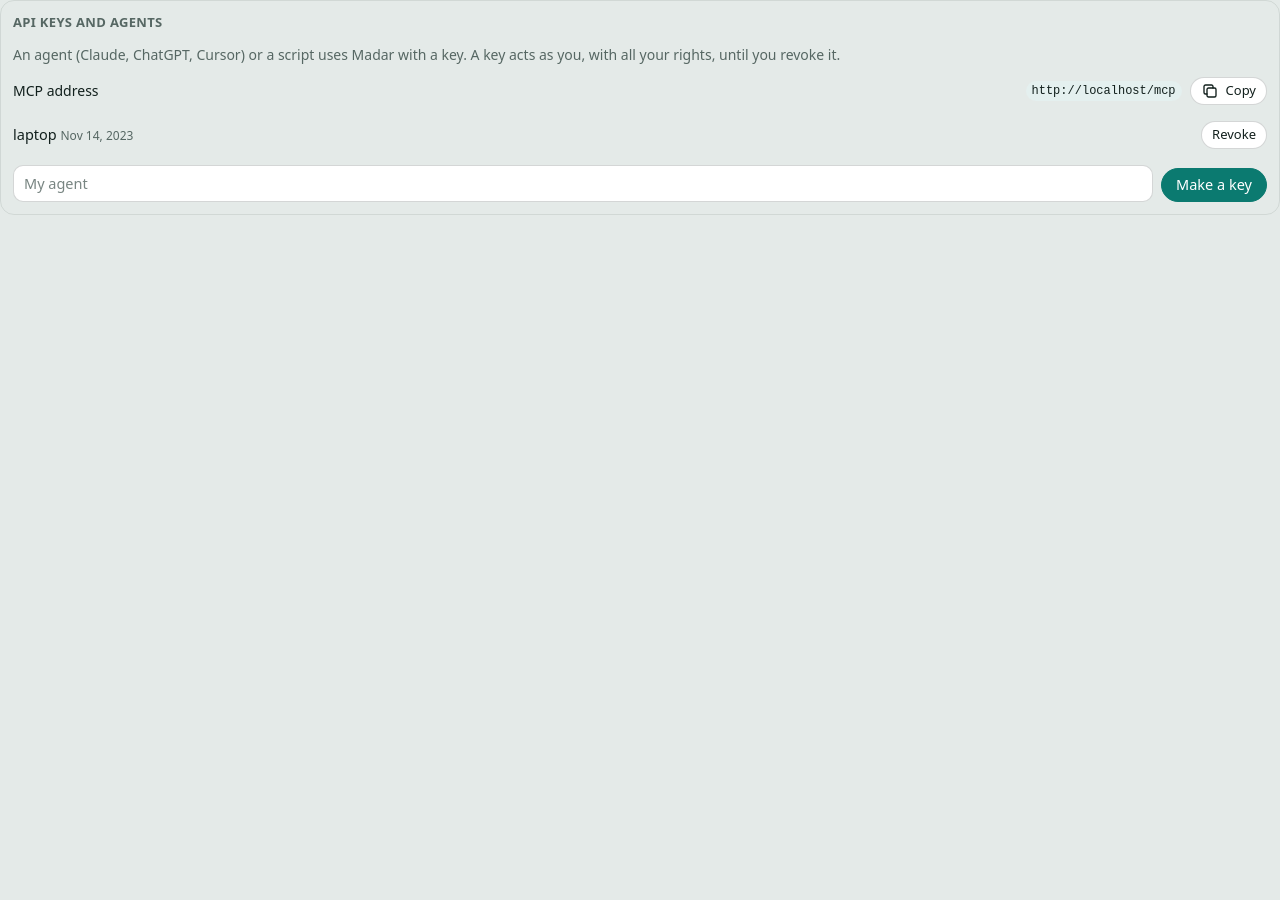
Test case: API keys and agents (ADR 0101) › makes_a_key_shows_it_once_with_the_mcp_address_and_revokes_one
Expected: the text "laptop" is shown, x1=13 y1=124 x2=57 y2=144
In the field named "Key name": [583, 183] box x1=13 y1=164 x2=1153 y2=202, type "my agent"
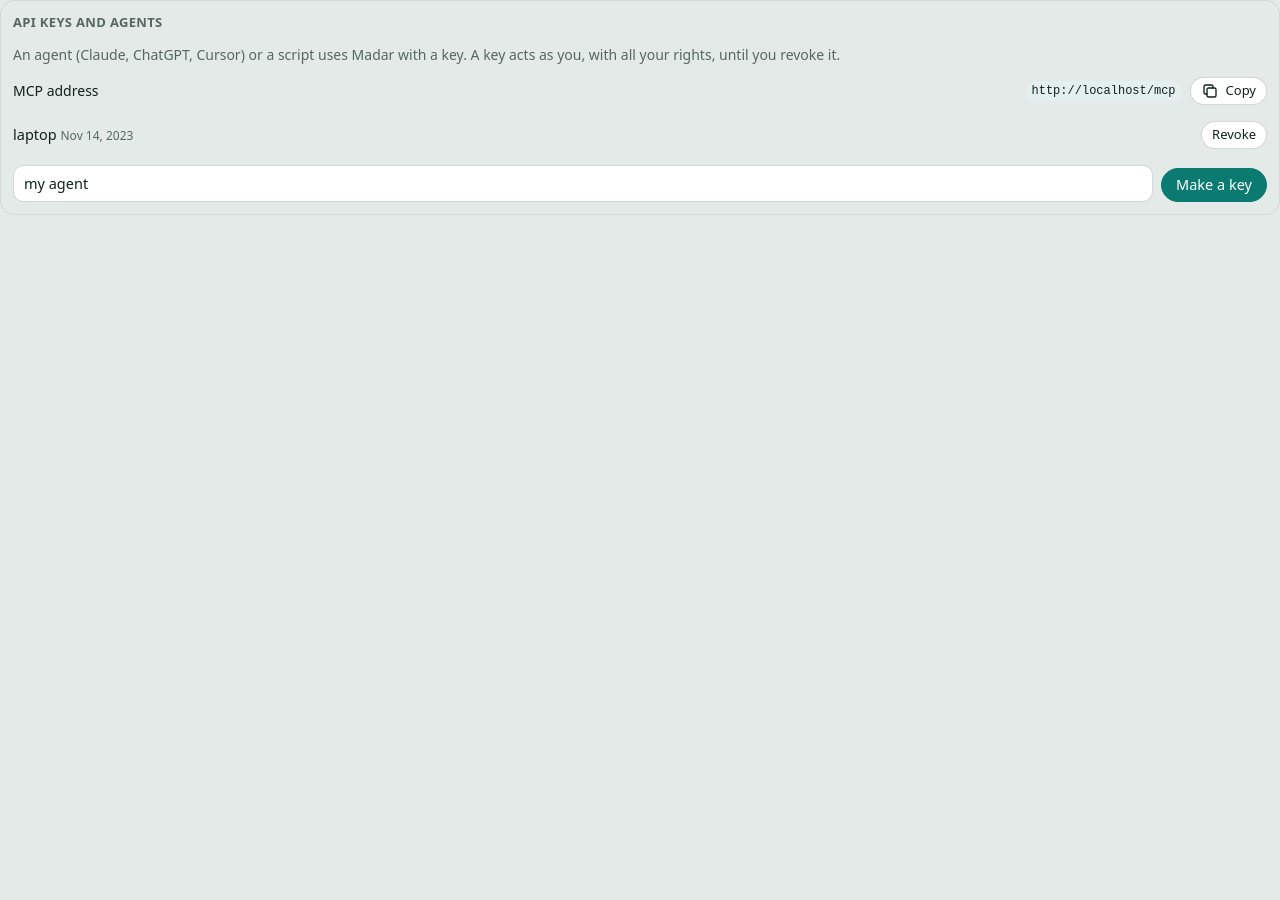
Click the button "Make a key": [1214, 185] box x1=1161 y1=168 x2=1267 y2=202
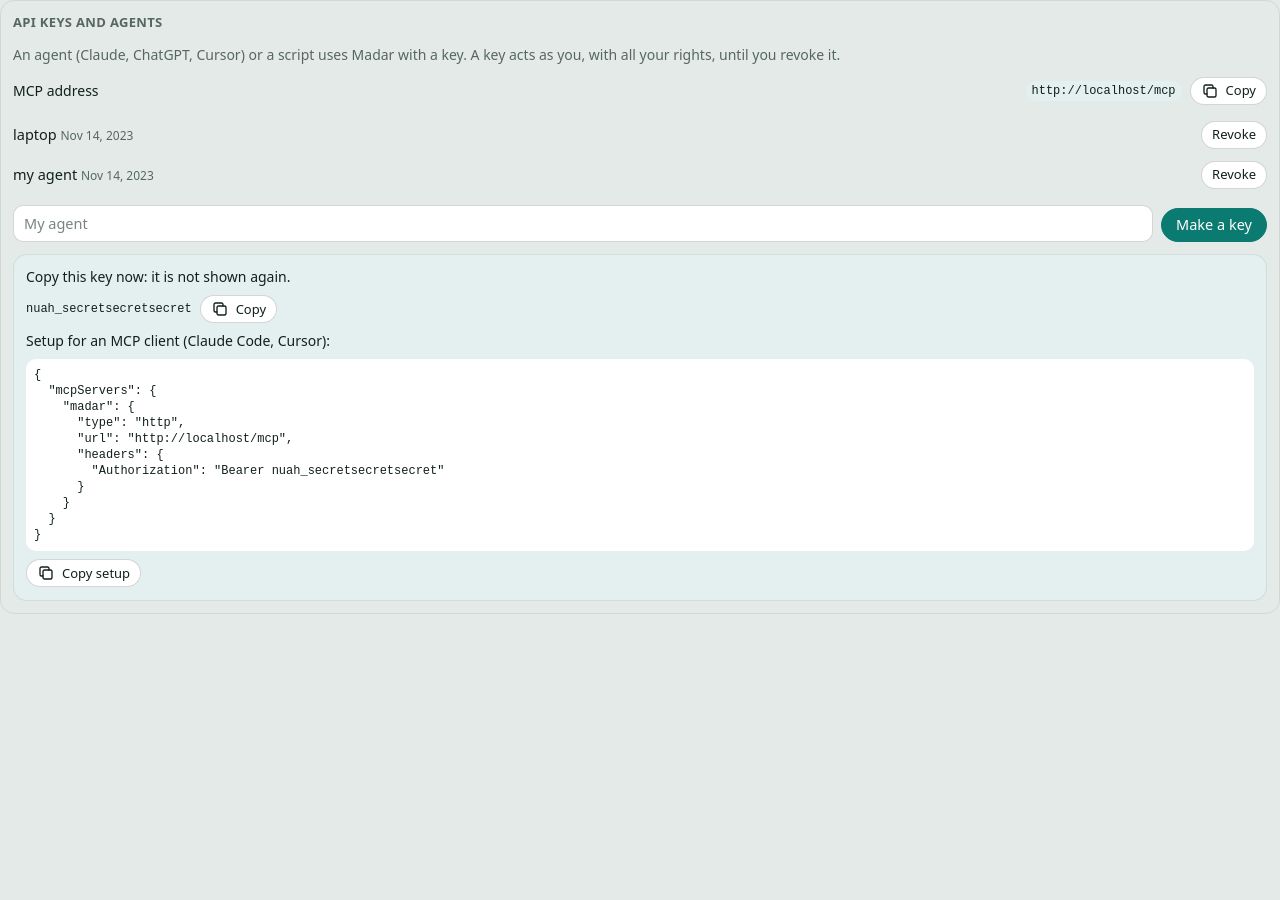
Result: the text "nuah_secretsecretsecret" is shown at x1=26 y1=301 x2=192 y2=317
Result: the text "\"Authorization\": \"Bearer nuah_secretsecretsecret\"" is shown at x1=34 y1=368 x2=444 y2=542
Click the button "Revoke" in the row of "laptop": [1234, 134] box x1=1201 y1=120 x2=1267 y2=148
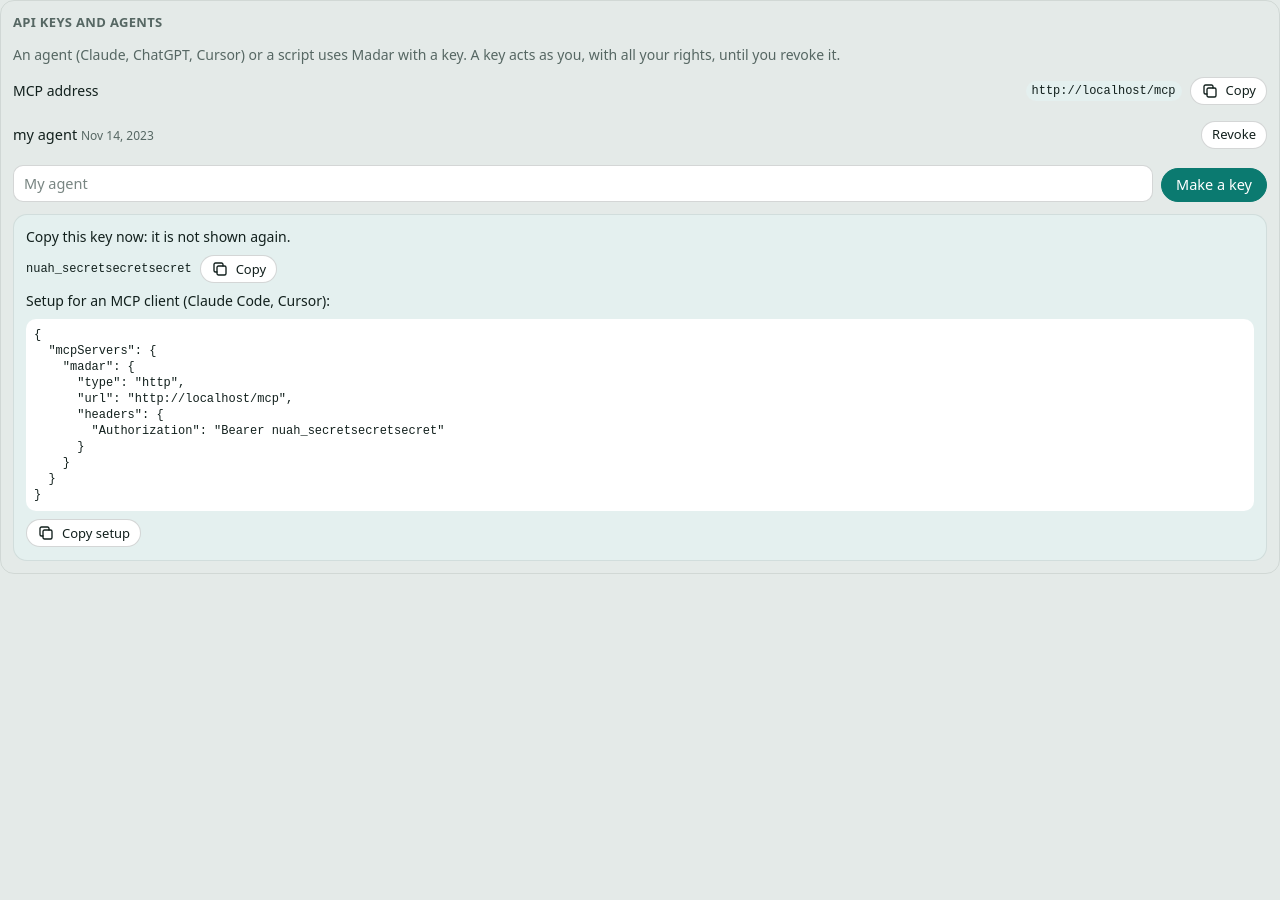
Result: the text "laptop" is gone
